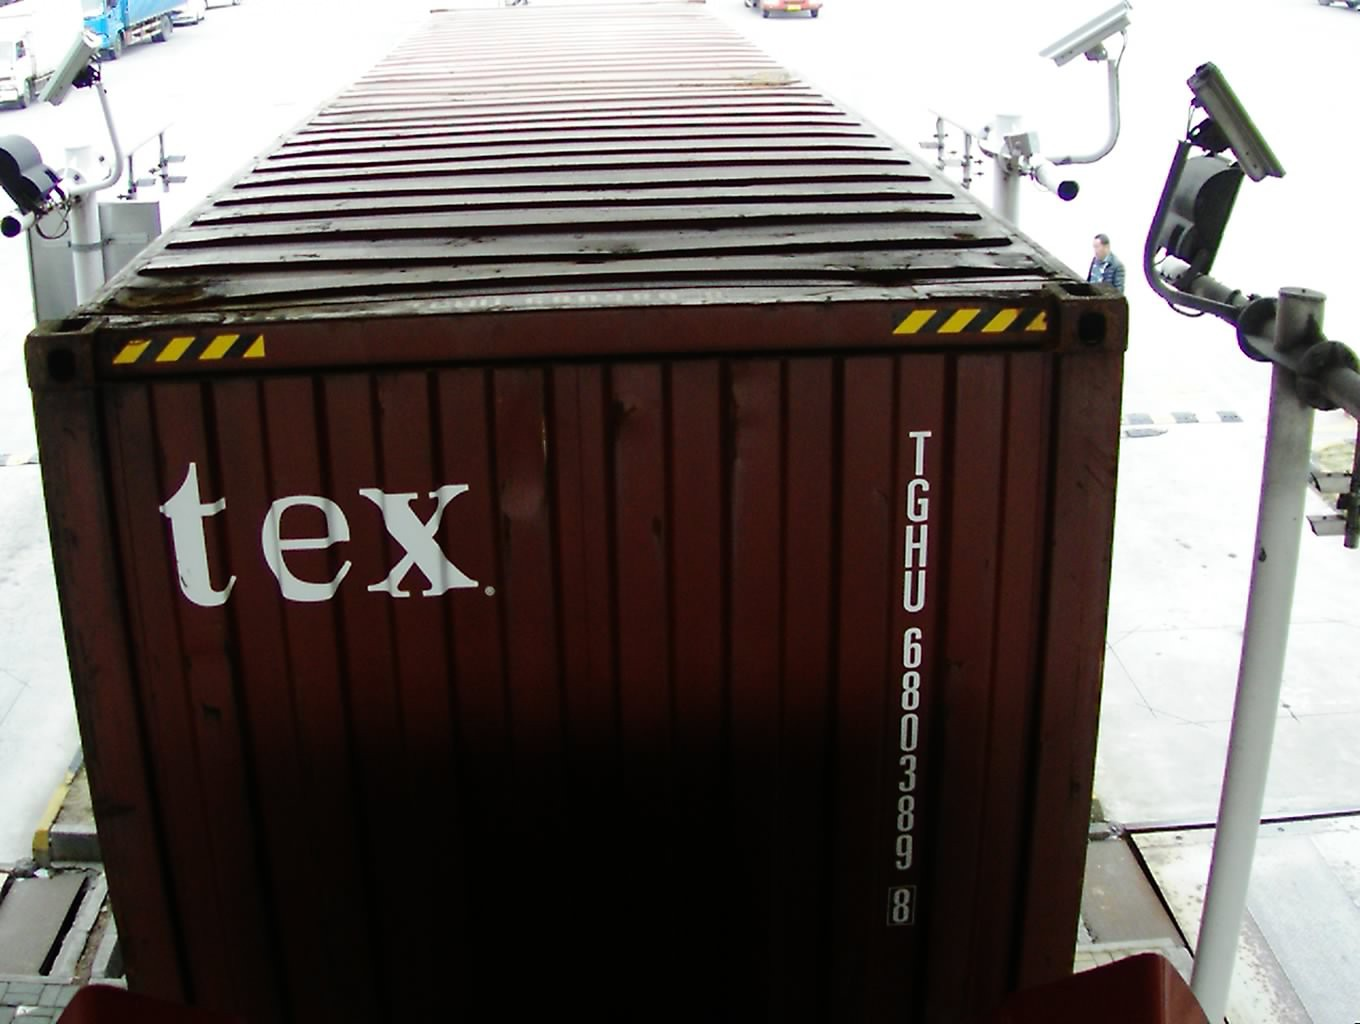words: (881, 423, 937, 933)
